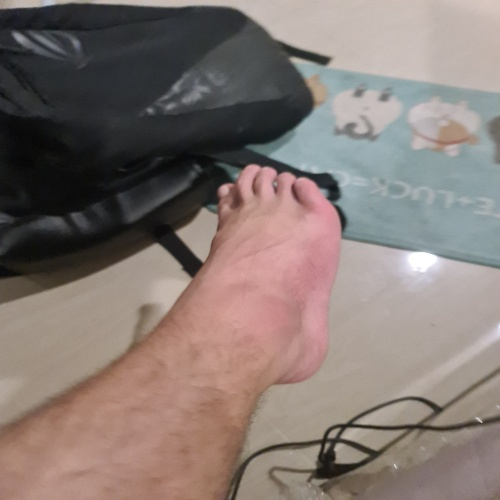3: (215, 182, 249, 228)
4: (276, 325, 329, 385)
Top_Foot: (211, 164, 344, 394)
